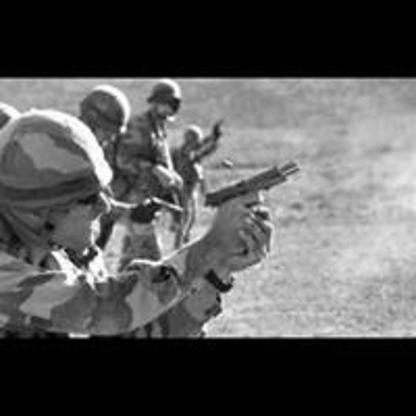criminal: (0, 110, 303, 339)
weapon: (201, 148, 302, 237)
